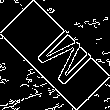M_SW: (21, 21, 89, 89)
